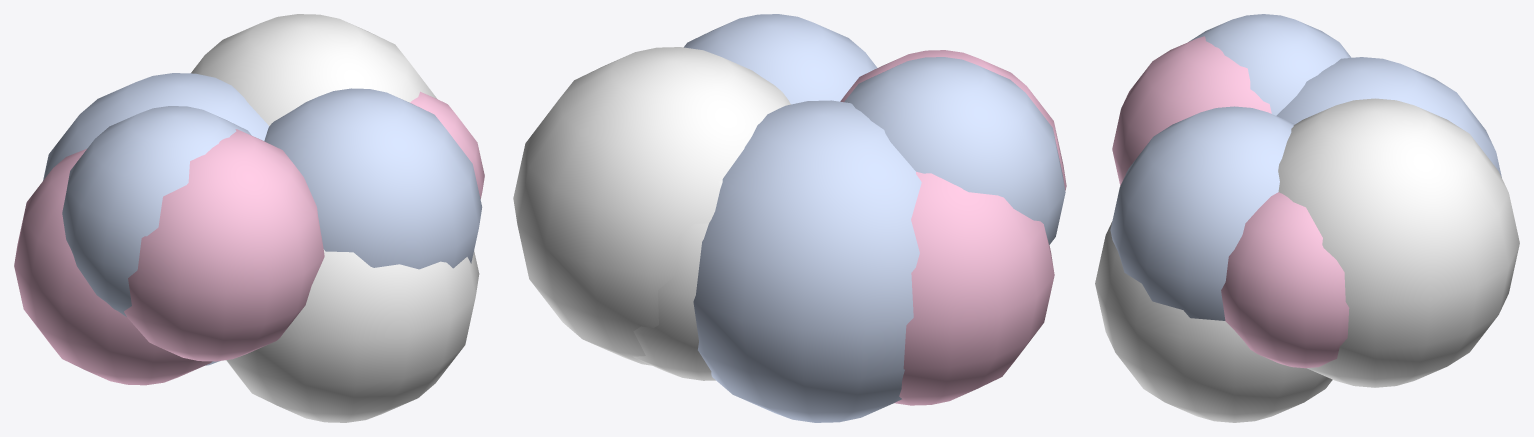
The model's file is Cloud_3.glb.
The picture shows the model from 3 angles, left to right: view 1: azimuth 30°, elevation 25°; view 2: azimuth 150°, elevation 25°; view 3: azimuth 270°, elevation 25°; orthographic projection. The views are drawn at different scales.
Parts seen in each view (by area): view 1: Cloud_3.001; view 2: Cloud_3.001; view 3: Cloud_3.001.
Boxes of the visible parts, bbox=[...] form: Cloud_3.001: bbox=[14, 14, 484, 422]; Cloud_3.001: bbox=[513, 14, 1066, 422]; Cloud_3.001: bbox=[1095, 14, 1519, 422].
Size of the model in its own units: 8.62 by 6.06 by 7.37.
